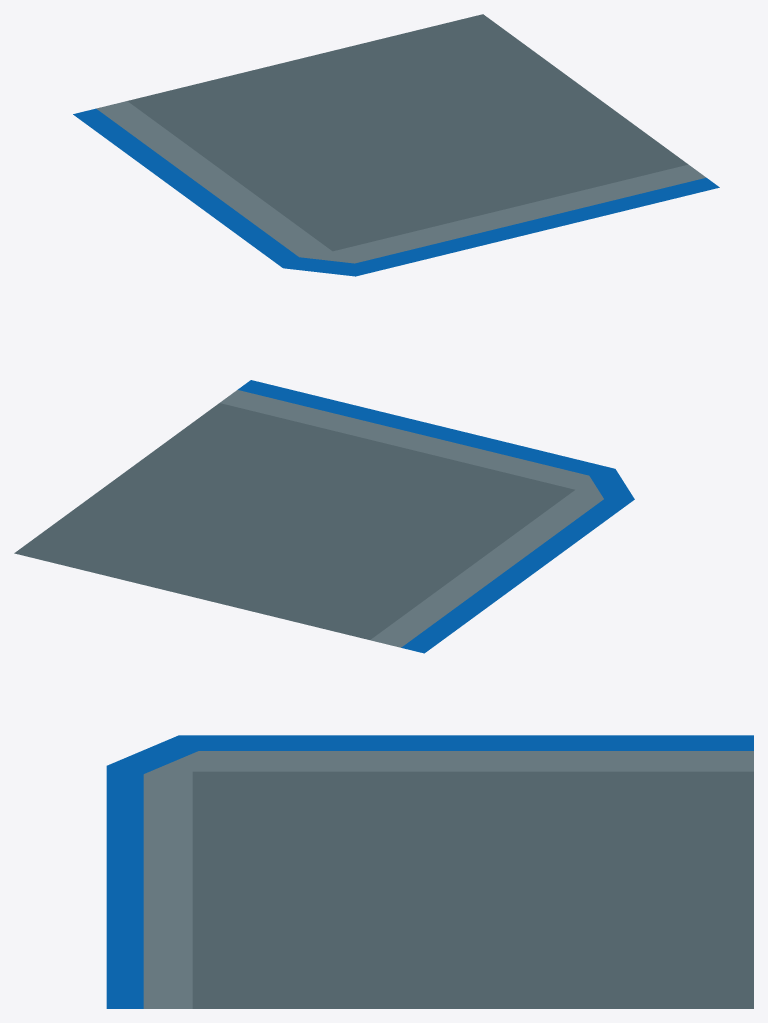
Rendered from Ceiling_type_C_023.fbx.
3 renders of one model, top to bottom at view 1: azimuth 30°, elevation 25°; view 2: azimuth 150°, elevation 25°; view 3: azimuth 270°, elevation 25°, orthographic. The views are drawn at different scales.
Parts seen in each view (by area): view 1: Ceiling_type_C_023; view 2: Ceiling_type_C_023; view 3: Ceiling_type_C_023.
Part boxes in pixels (<box>): Ceiling_type_C_023: <box>73,14,719,276</box>; Ceiling_type_C_023: <box>14,380,634,653</box>; Ceiling_type_C_023: <box>106,735,753,1008</box>.
Bounding box in the file's own units: 400 × 400 × 6.18.
